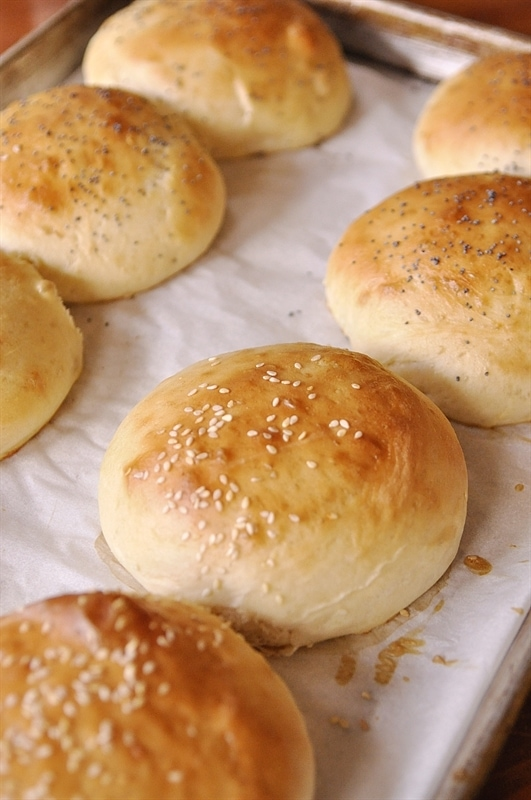hamburger_buns: (110, 327, 459, 621), (1, 579, 312, 800), (1, 97, 270, 280), (319, 179, 531, 383)
